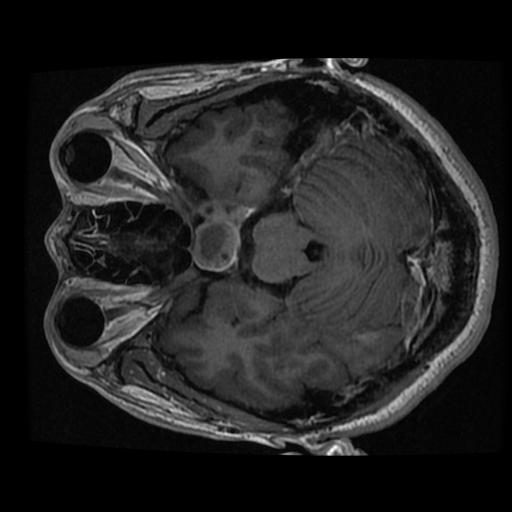pituitary tumour: (188, 214, 241, 271)
